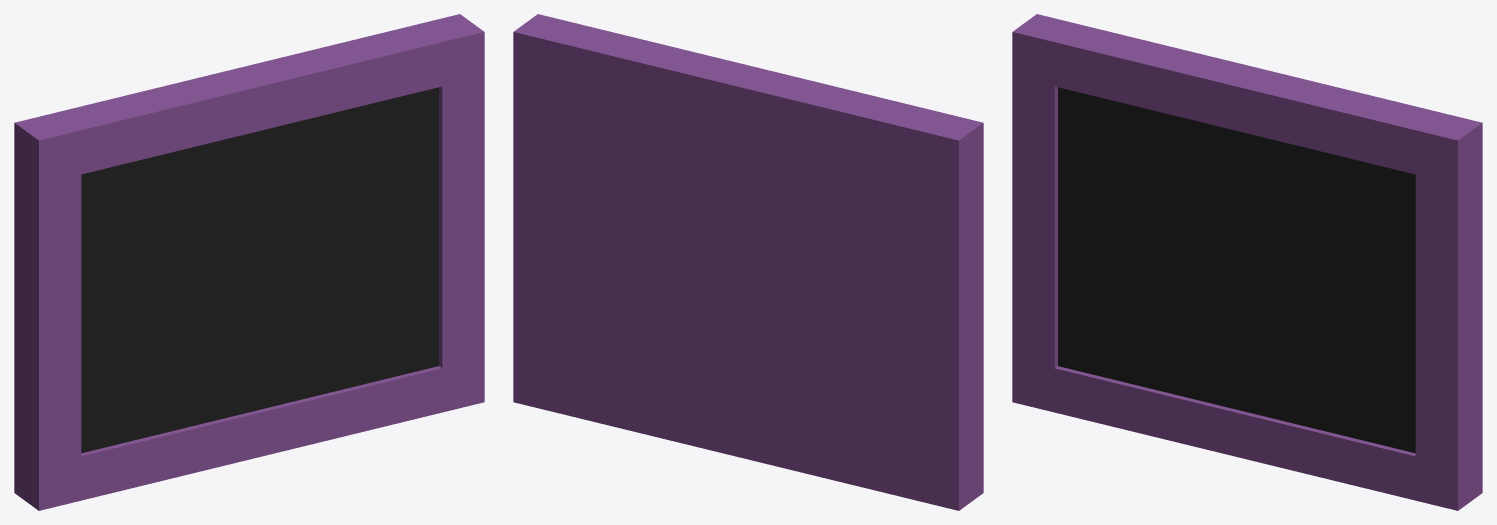
Rendered from Itr_Obj_Laptop_Screen_off_06.FBX.
3 renders of one model, left to right at view 1: azimuth 30°, elevation 25°; view 2: azimuth 150°, elevation 25°; view 3: azimuth 330°, elevation 25°, orthographic.
Parts seen in each view (by area): view 1: Itr_Obj_Laptop_Screen_off_06; view 2: Itr_Obj_Laptop_Screen_off_06; view 3: Itr_Obj_Laptop_Screen_off_06.
Boxes of the visible parts, x1,y1,x2,y2 form: Itr_Obj_Laptop_Screen_off_06: (14, 14, 484, 510); Itr_Obj_Laptop_Screen_off_06: (513, 14, 983, 510); Itr_Obj_Laptop_Screen_off_06: (1012, 14, 1482, 510).
Size of the model in its own units: 29.1 by 23.12 by 2.77.
